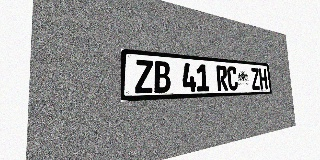1: (195, 64, 209, 92)
4: (182, 63, 197, 92)
B: (153, 61, 171, 93)
C: (227, 66, 238, 91)
H: (259, 68, 268, 89)
R: (216, 65, 228, 91)
Z: (134, 59, 154, 93), (251, 68, 260, 90)
